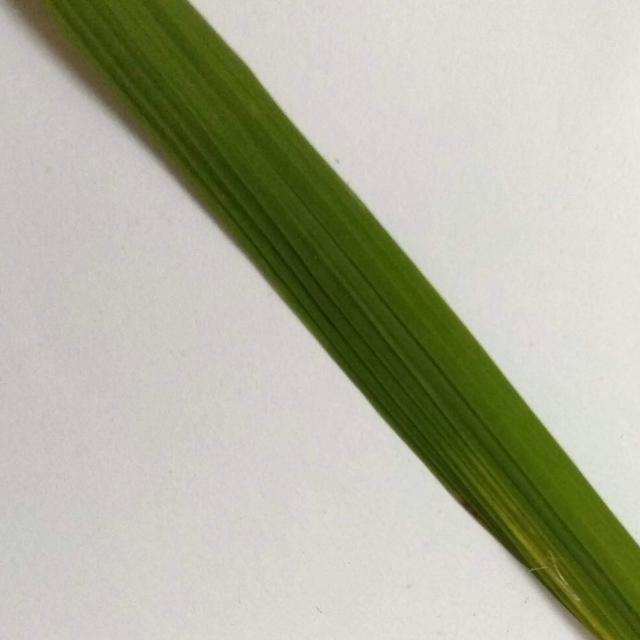Rice_Healthy: (44, 0, 640, 640)
